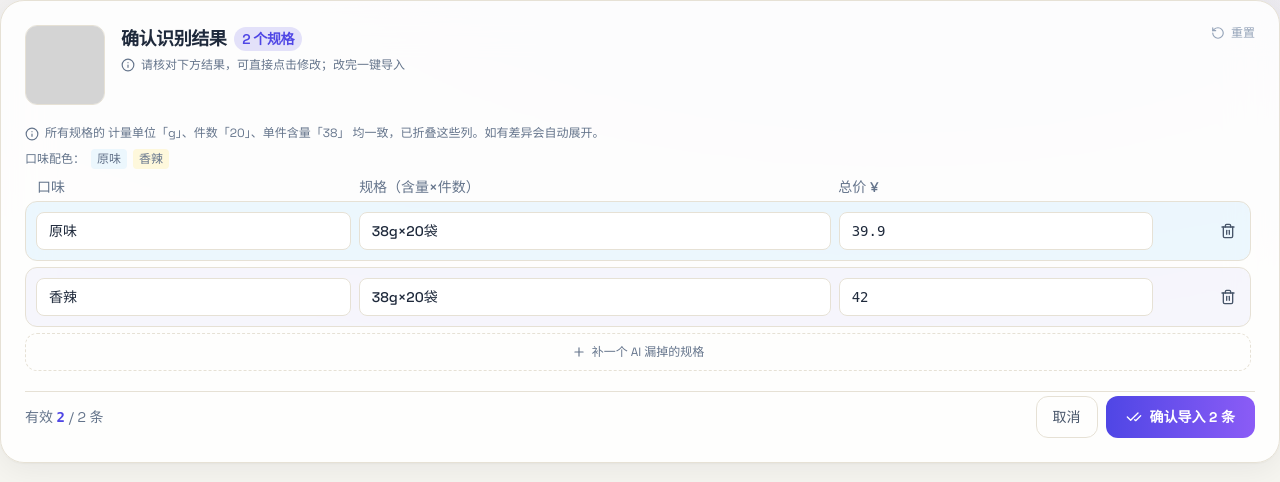
RecognizeReview 识别确认流 › 「重置」把改动恢复为 AI 原始识别结果
Replace the text in the 1st number field with placeholder "价格" with "99" at (996, 231), box [839,212,1153,250]
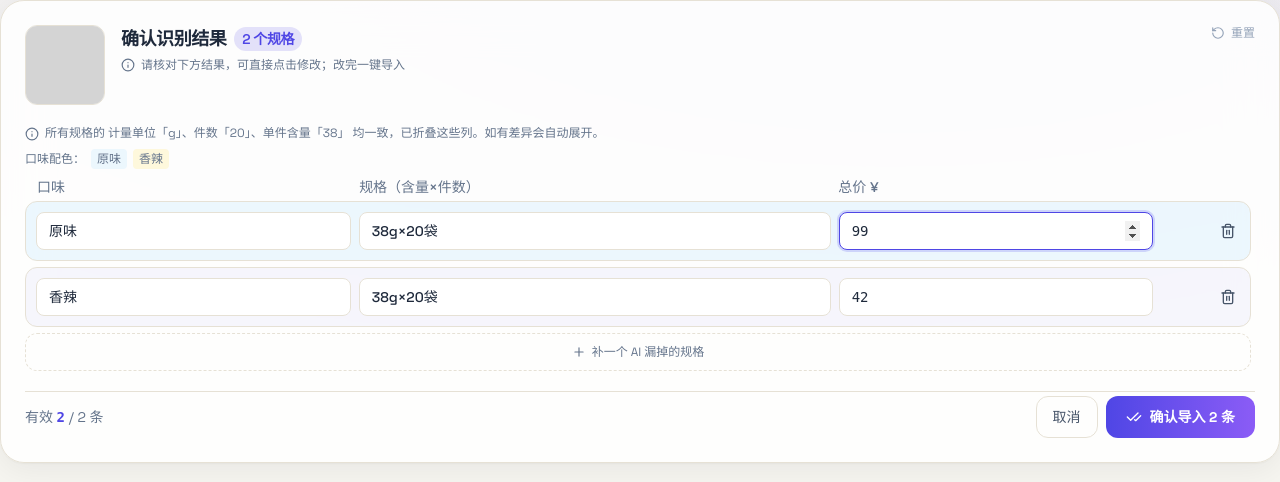
Click the button "重置" at (1233, 33), box [1211,25,1255,41]
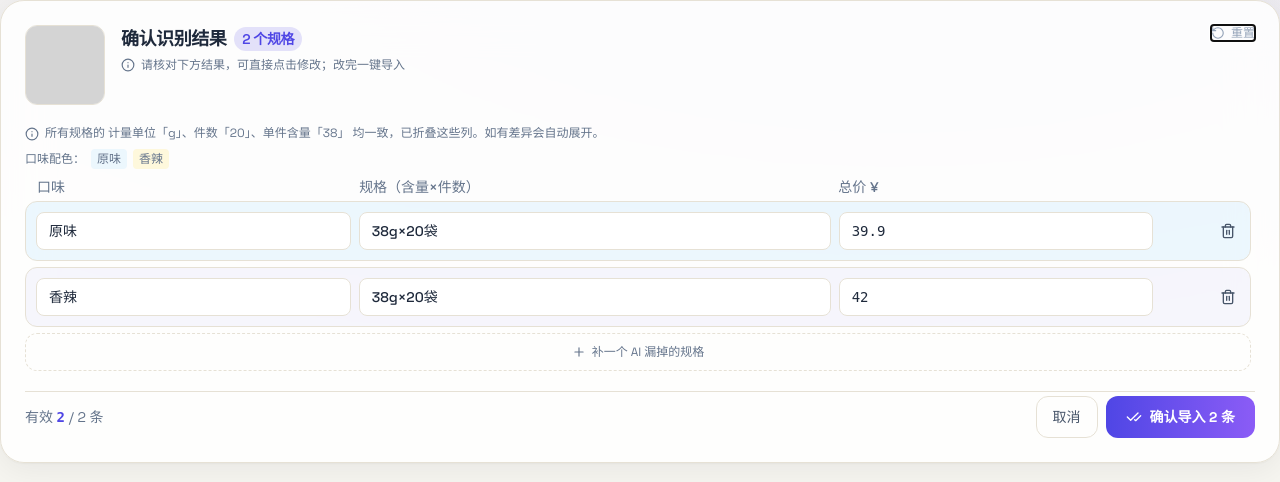
Expected: the text "有效 2 / 2 条" is shown, [25,407,104,427]
Expected: the 1st number field with placeholder "价格" holds "39.9", [839,212,1153,250]
